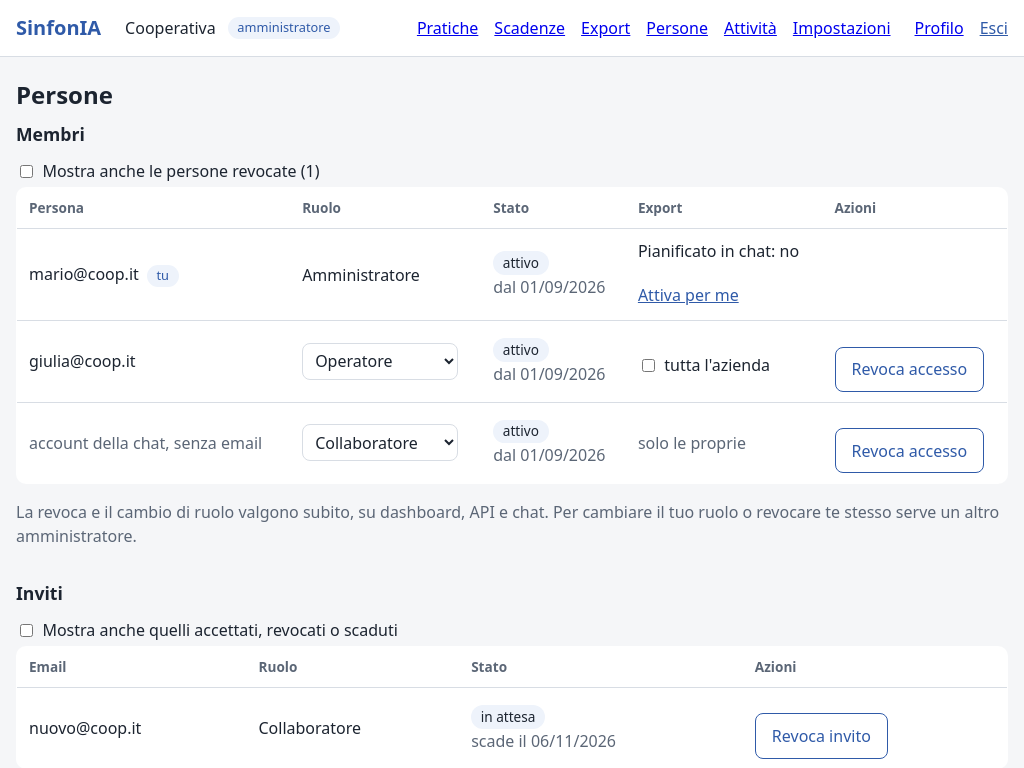
Test case: people (FE4) › lists members, hides revoked ones until asked, and never edits oneself
Expected: the text "tu" is shown, [147,265,178,287]
Expected: the text "account della chat, senza email" is shown, [29,432,262,454]
Click the checkbox labelled "Mostra anche le persone revocate (1)". click: (26, 171)
box: [20,165,33,178]
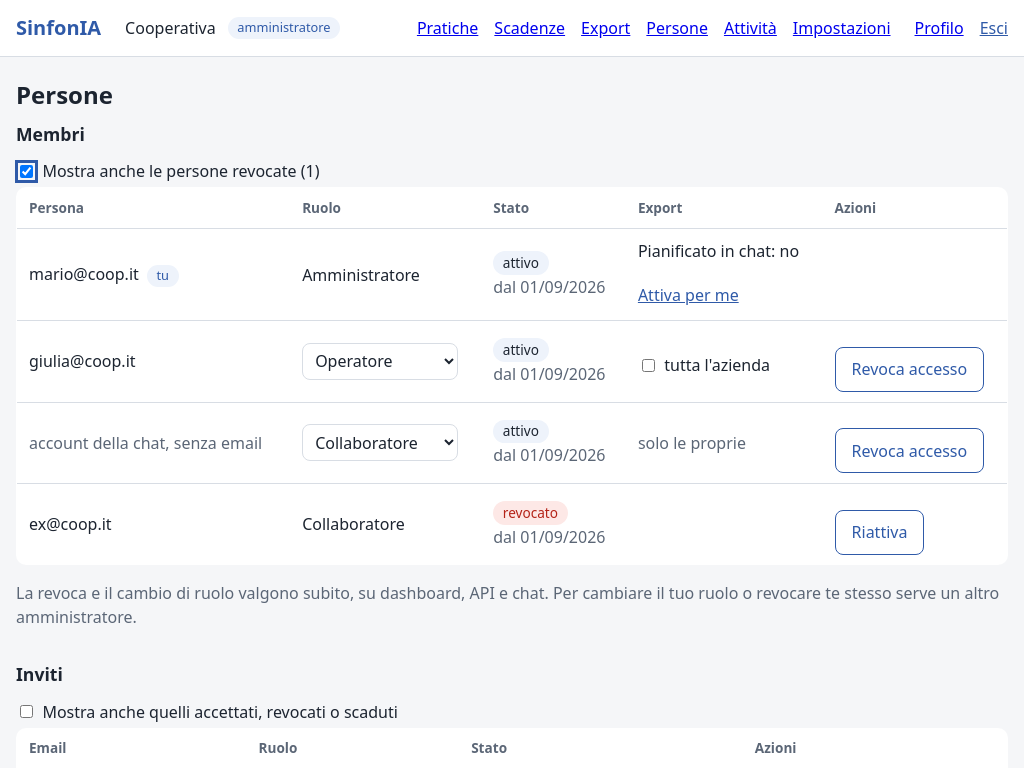
Now the text "revocato" is shown, box [493,501,568,525]
Now the button "Riattiva" is shown, box [834,510,924,555]
